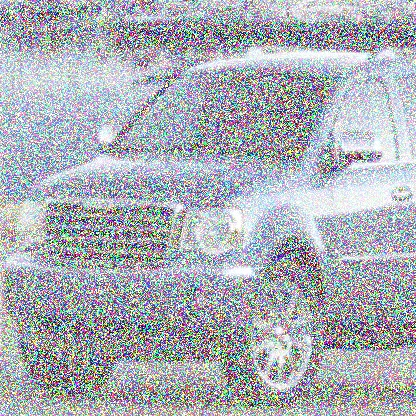Vehicle: (2, 44, 414, 413)
